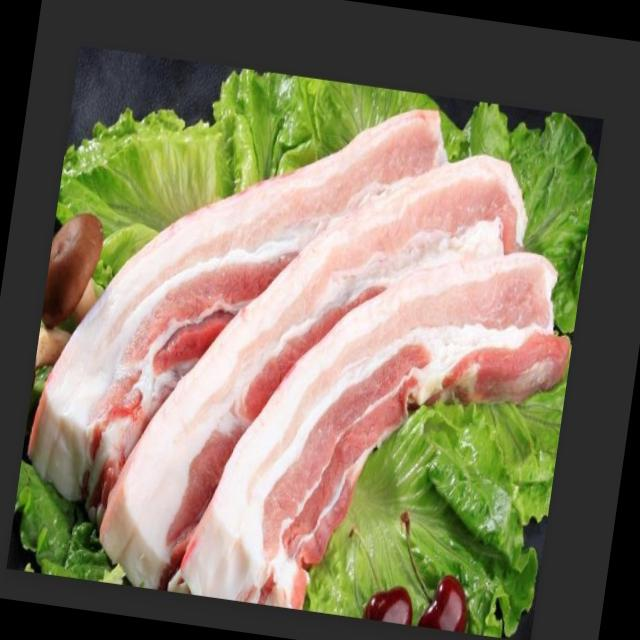pork: (19, 51, 565, 626)
